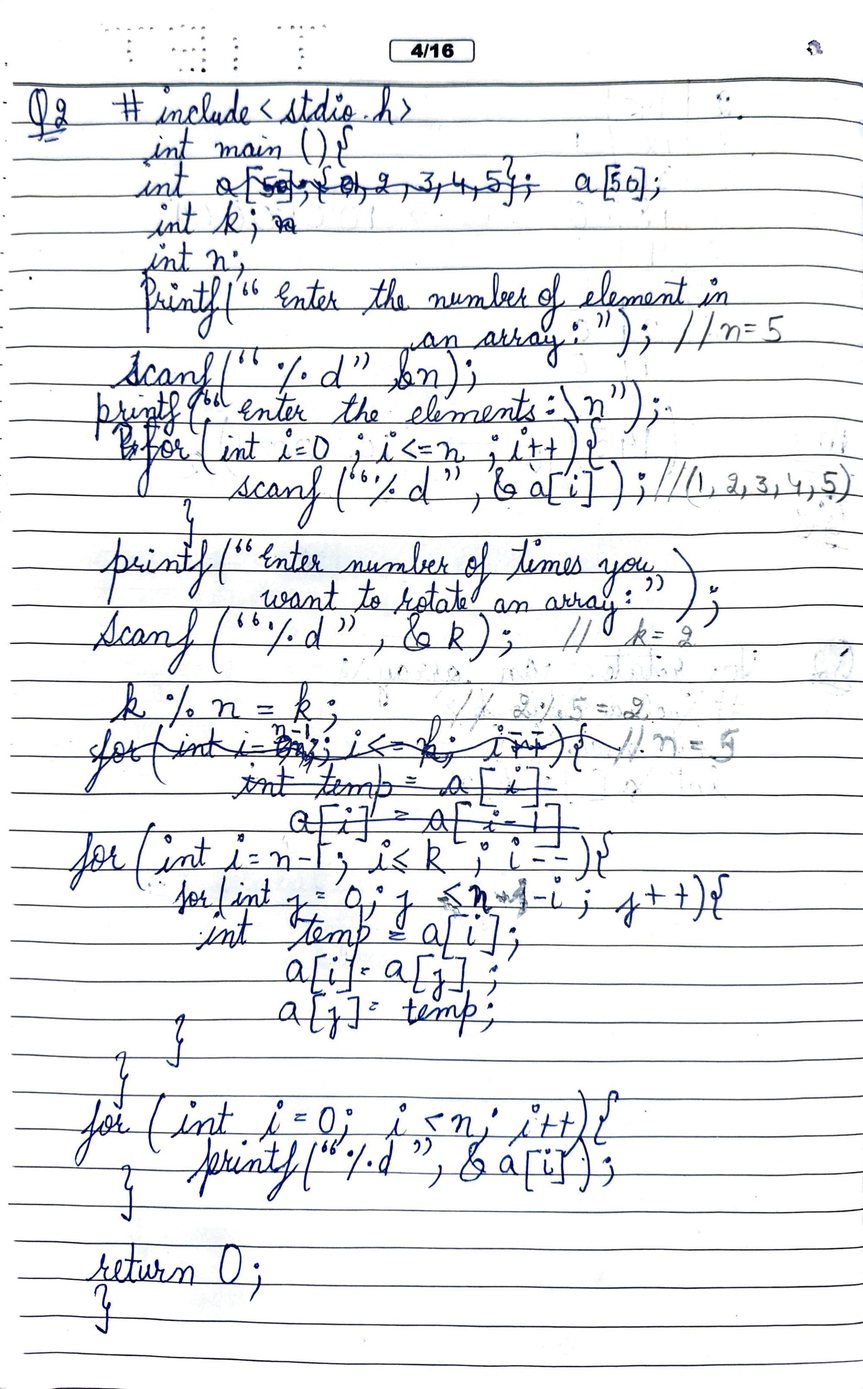cuttings: (82, 713, 628, 850), (213, 154, 539, 207), (110, 422, 139, 459), (271, 215, 297, 235)
